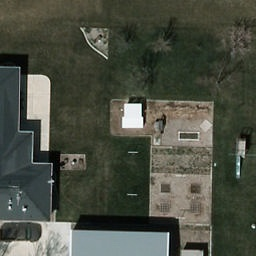car: (0, 224, 45, 243)
